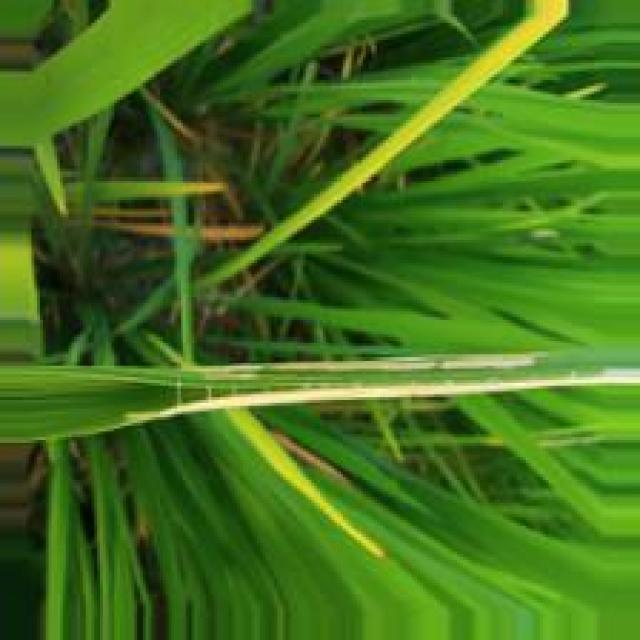Rice_Hispa: (113, 362, 640, 427), (180, 349, 540, 380)
